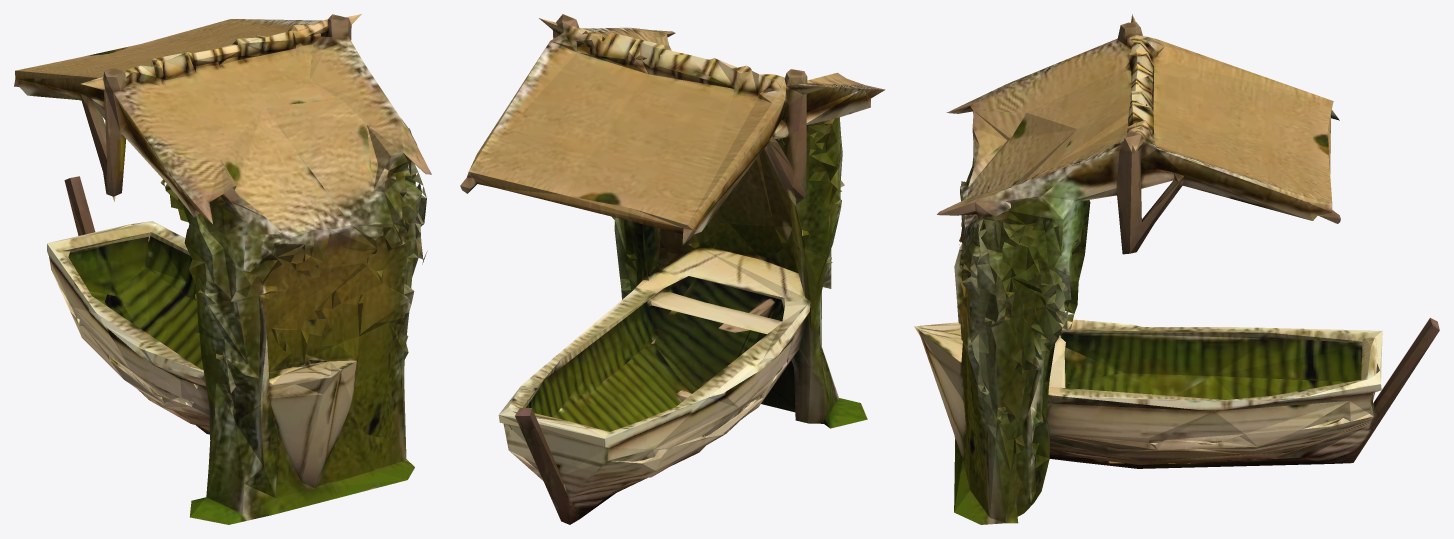
The model's file is fen_coracle_01.glb.
3 views of the same model, side by side, from view 1: azimuth 30°, elevation 25°; view 2: azimuth 150°, elevation 25°; view 3: azimuth 270°, elevation 25° (orthographic). The views are drawn at different scales.
Visible parts, largest first — view 1: geometry_0; view 2: geometry_0; view 3: geometry_0.
Boxes of the visible parts, x1,y1,x2,y2 form: geometry_0: [14, 14, 431, 524]; geometry_0: [460, 14, 885, 524]; geometry_0: [914, 14, 1439, 524].
Size of the model in its own units: 0.6156 by 0.8234 by 0.9998.
1 material, 1 textured.
